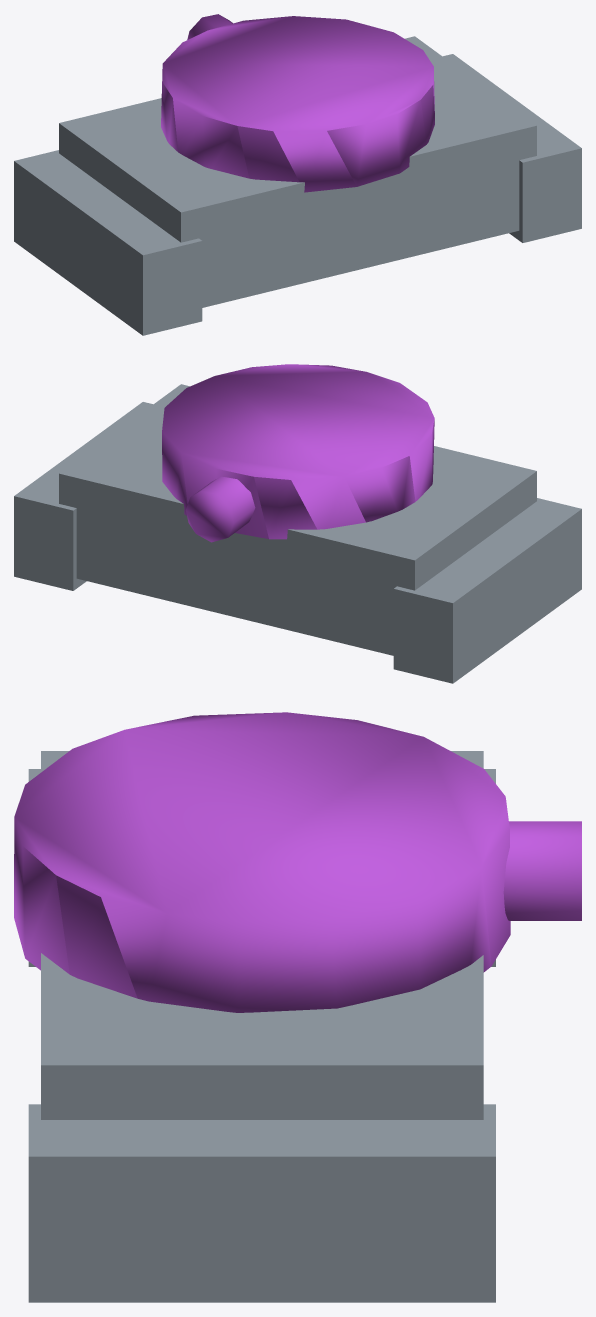
File: CH_ParallaxScout_LOD1.glb
3 renders of one model, top to bottom at view 1: azimuth 30°, elevation 25°; view 2: azimuth 150°, elevation 25°; view 3: azimuth 270°, elevation 25°, orthographic. The views are drawn at different scales.
Visible parts, largest first — view 1: Chassis; view 2: Chassis; view 3: Chassis.
Boxes of the visible parts, x1,y1,x2,y2 form: Chassis: [14, 14, 581, 335]; Chassis: [14, 364, 581, 683]; Chassis: [14, 712, 581, 1302].
Bounding box in the file's own units: 411 × 144 × 254.
